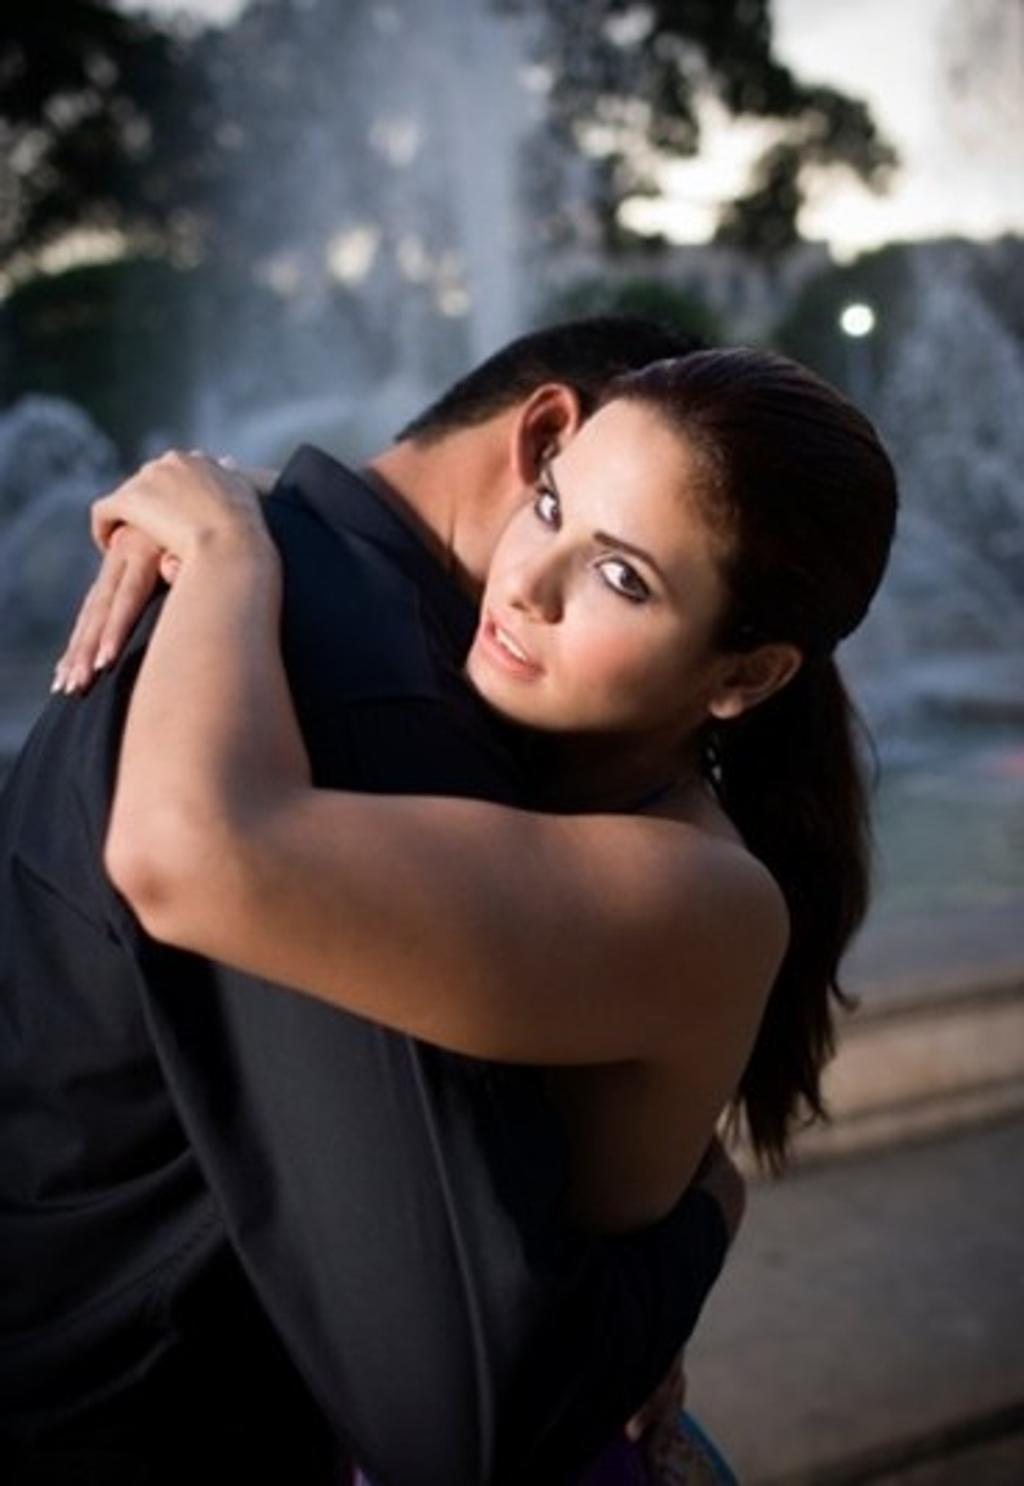face: (464, 429, 690, 728)
